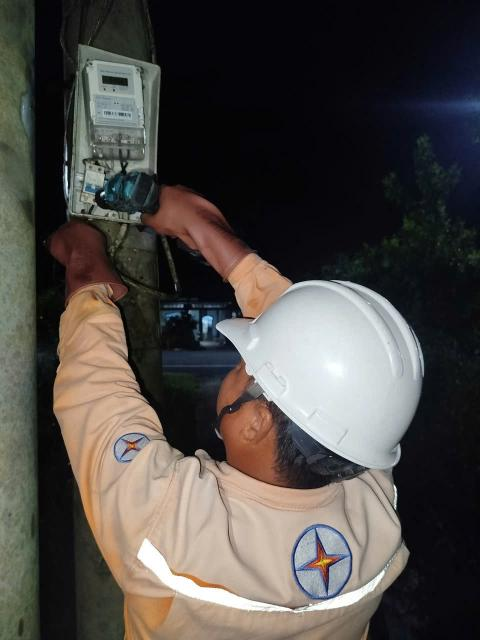gloves: (142, 169, 263, 278), (22, 203, 143, 305)
helmet: (199, 247, 447, 464)
